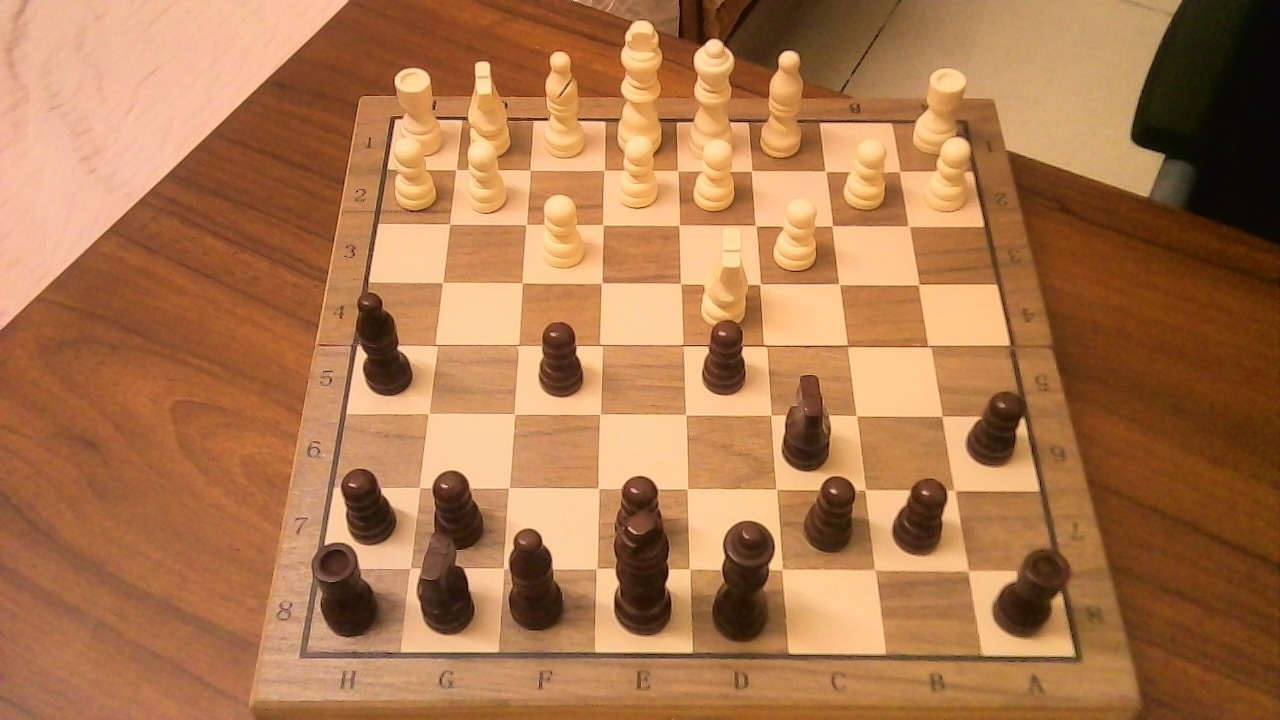B: (536, 40, 594, 163), (756, 39, 814, 162)
K: (610, 10, 673, 160)
N: (690, 216, 758, 332), (460, 50, 519, 162)
P: (918, 128, 980, 216), (530, 185, 591, 274), (767, 188, 827, 275), (836, 129, 897, 214), (610, 126, 667, 214), (385, 128, 443, 213), (458, 130, 514, 218), (686, 130, 743, 216)
Q: (682, 28, 745, 167)
R: (905, 57, 974, 161), (390, 58, 450, 160)
b: (502, 517, 578, 635), (352, 281, 422, 400)
k: (604, 505, 680, 641)
n: (410, 521, 487, 638), (778, 361, 844, 473)
p: (605, 464, 675, 564), (886, 468, 960, 561), (961, 379, 1035, 470), (332, 457, 406, 547), (799, 465, 866, 555), (527, 312, 592, 402), (693, 309, 755, 398), (433, 470, 484, 550)
q: (702, 509, 790, 647)
r: (987, 536, 1081, 642), (309, 531, 393, 639)
